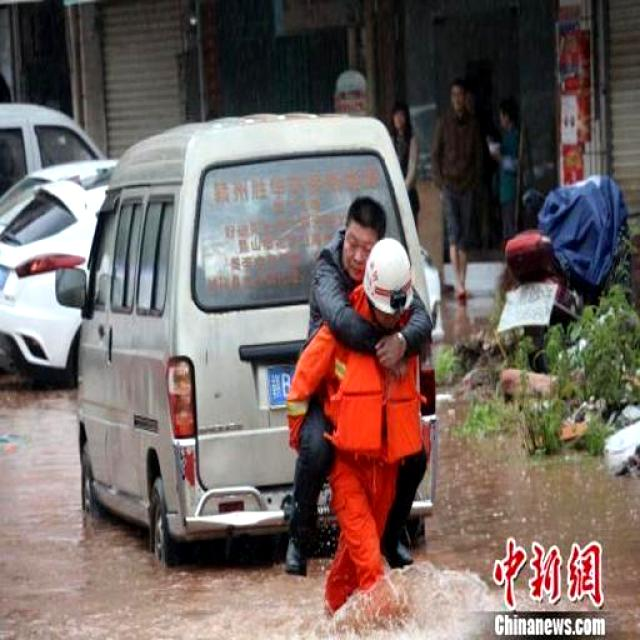civilian: (278, 182, 437, 592), (434, 67, 488, 316), (479, 78, 531, 266), (386, 96, 430, 240)
rescuer: (283, 230, 438, 632)
